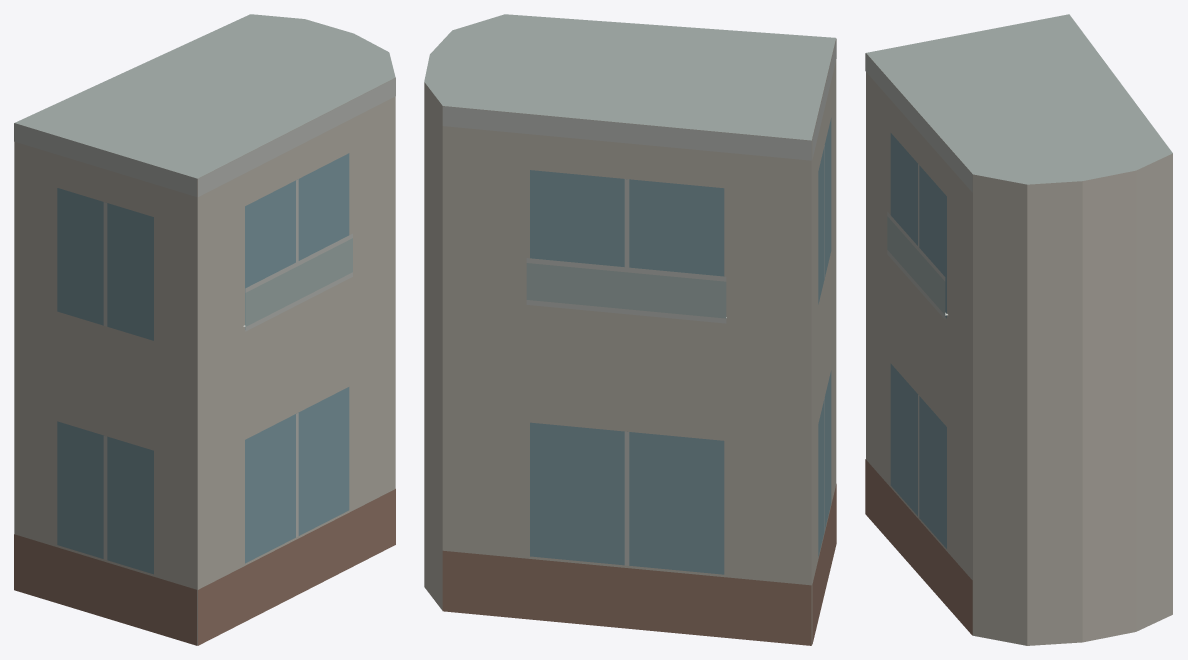
Rendered from survey-upis-32931327.glb.
3 renders of one model, left to right at view 1: azimuth 30°, elevation 25°; view 2: azimuth 150°, elevation 25°; view 3: azimuth 270°, elevation 25°, orthographic. The views are drawn at different scales.
Visible parts, largest first — view 1: survey-upis-32931327.tmp; view 2: survey-upis-32931327.tmp; view 3: survey-upis-32931327.tmp.
Part boxes in pixels (left/top/right/bottom): survey-upis-32931327.tmp: left=14, top=14, right=395, bottom=645; survey-upis-32931327.tmp: left=424, top=14, right=836, bottom=645; survey-upis-32931327.tmp: left=865, top=14, right=1172, bottom=645.
Bounding box in the file's own units: 4.84 × 6.1 × 3.69.
